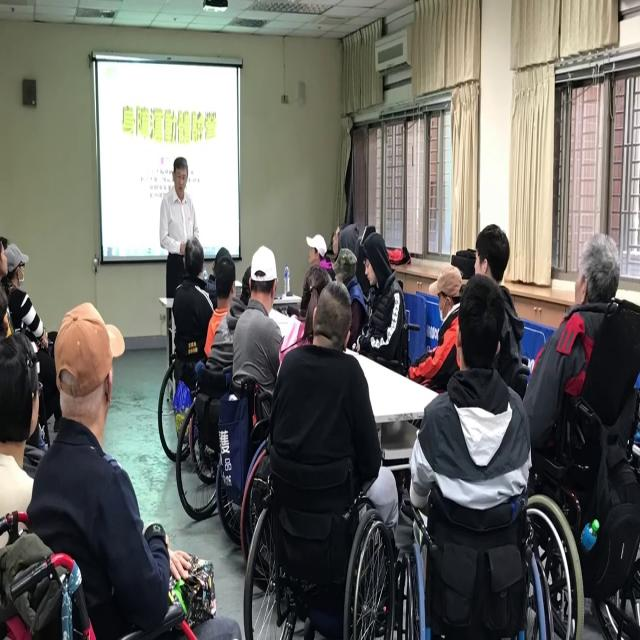wheelchairs: (384, 500, 584, 640), (237, 486, 382, 640), (154, 325, 286, 494), (178, 384, 276, 555)
